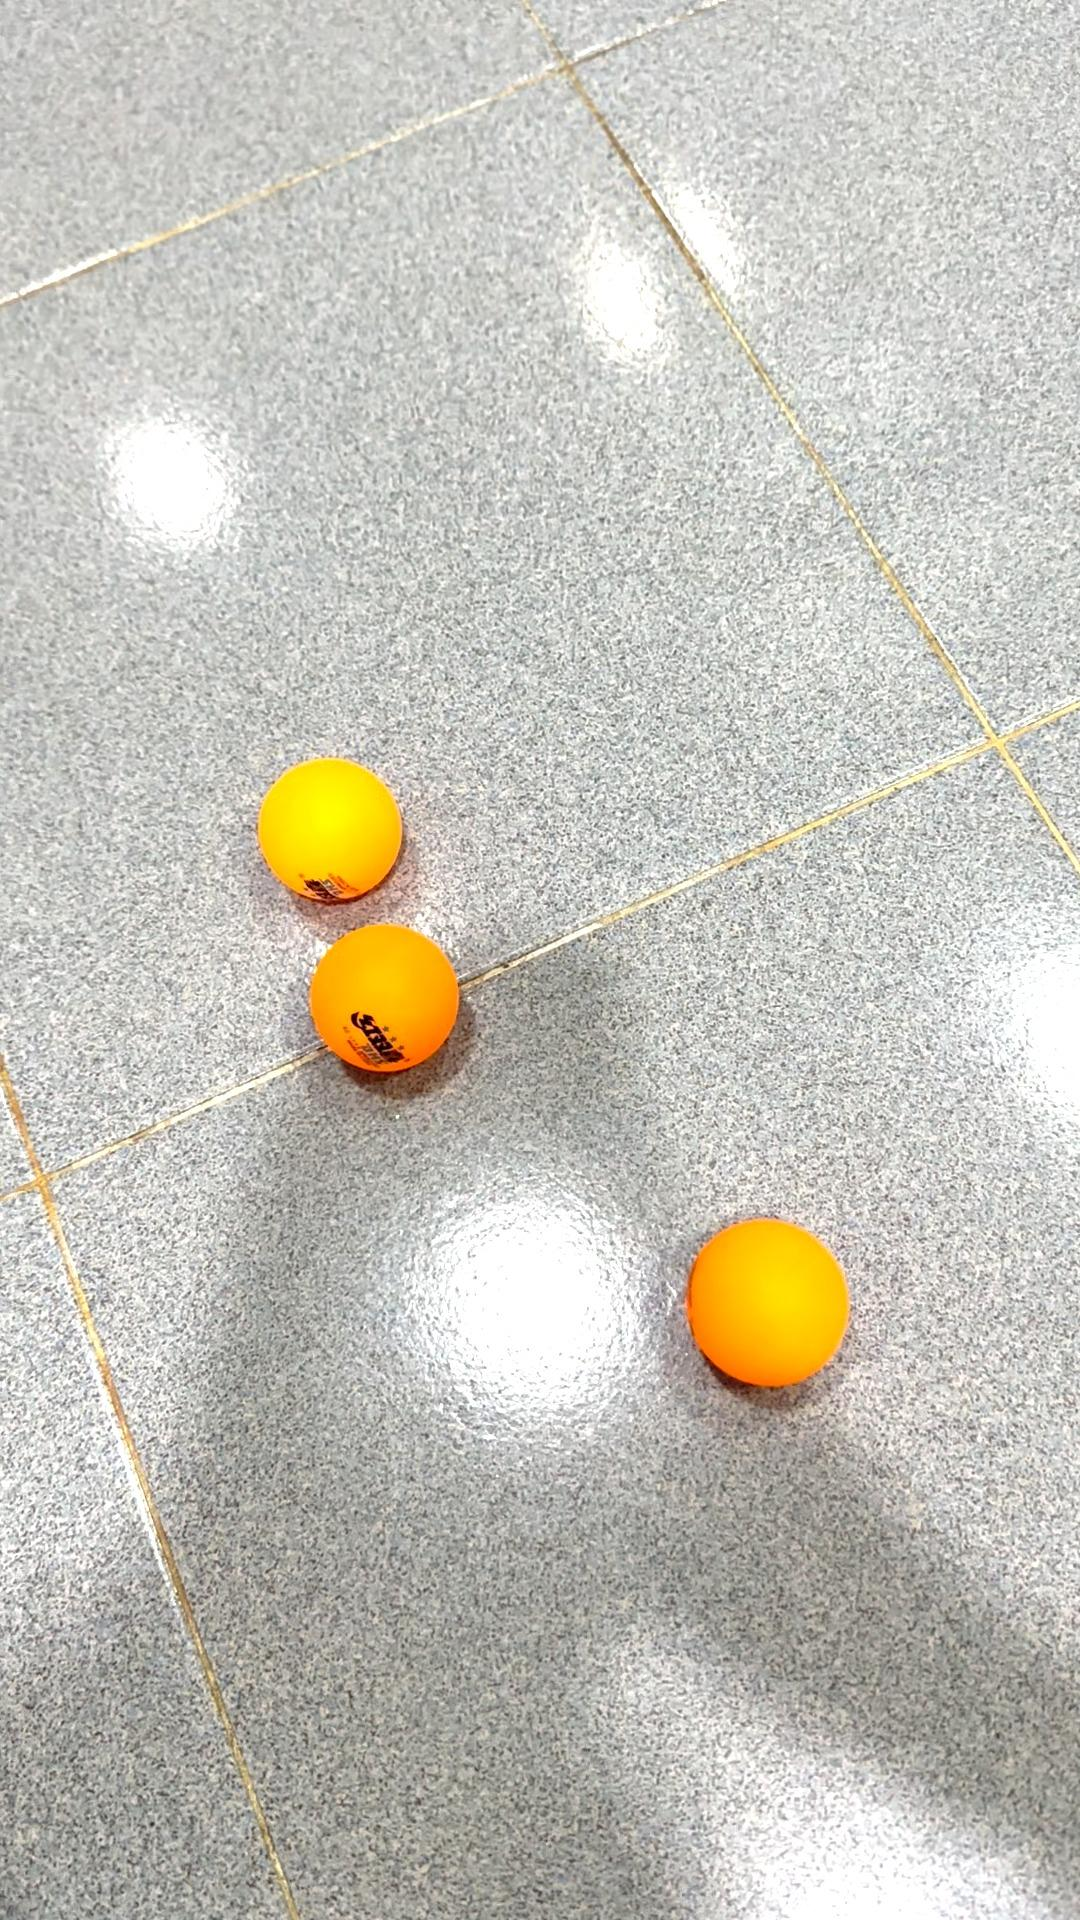oball: (291, 911, 488, 1095), (682, 1211, 869, 1402), (248, 745, 406, 924)
